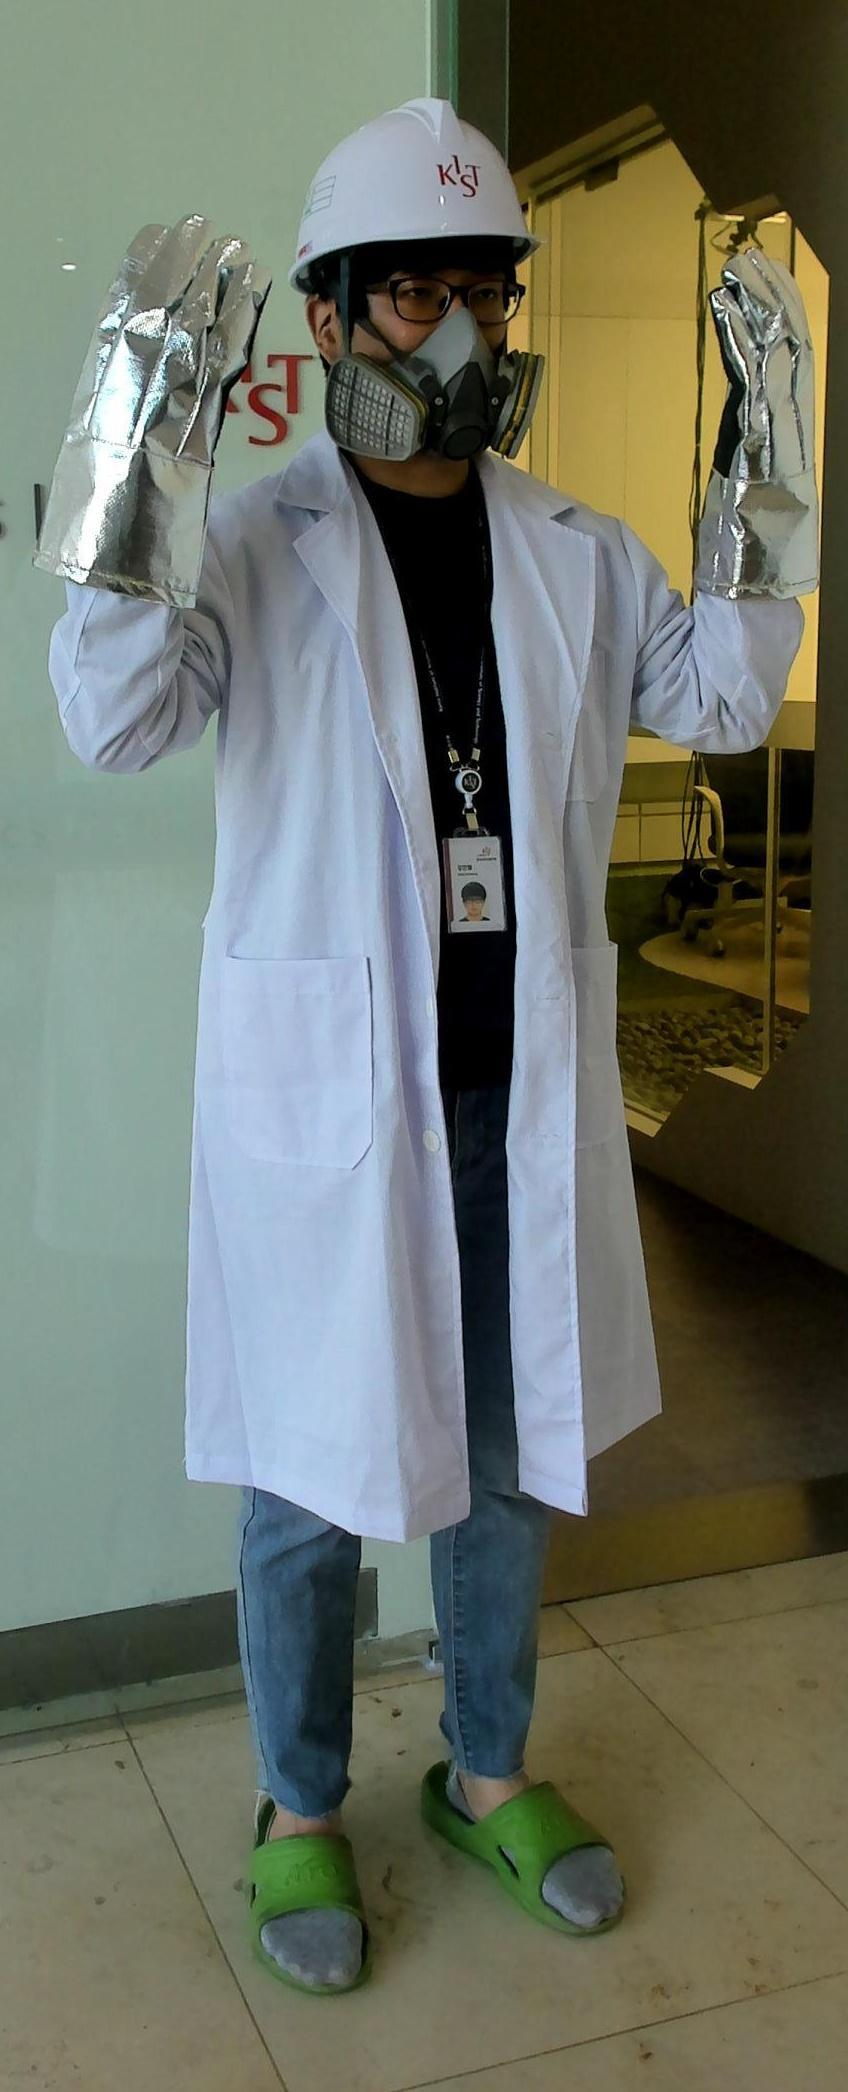lab_coat: (171, 496, 687, 1501)
